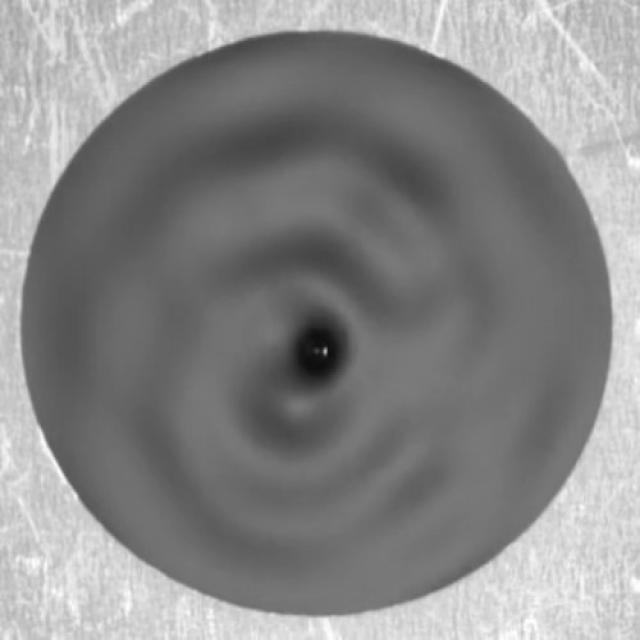droplet: (293, 328, 344, 382)
